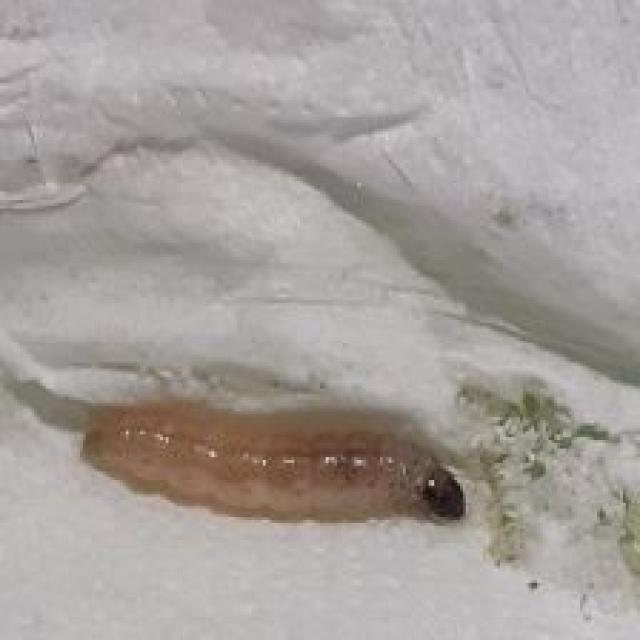white mucus: (66, 397, 483, 545)
